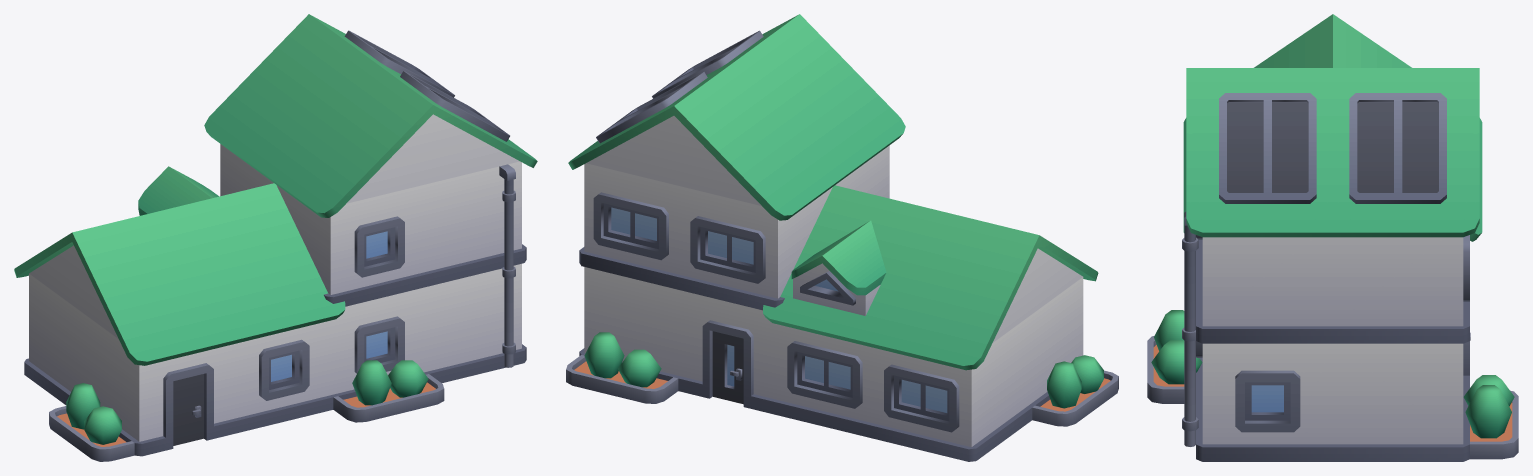
File: house_suburb_b.glb
3 renders of one model, left to right at view 1: azimuth 30°, elevation 25°; view 2: azimuth 150°, elevation 25°; view 3: azimuth 270°, elevation 25°, orthographic. The views are drawn at different scales.
Visible parts, largest first — view 1: building-type-b; view 2: building-type-b; view 3: building-type-b.
Part boxes in pixels (x1,y1,x2,y2): building-type-b: (14, 14, 537, 461); building-type-b: (566, 14, 1118, 461); building-type-b: (1147, 14, 1518, 461).
Bounding box in the file's own units: 1.83 × 1.14 × 1.14.
1 material, 1 textured.
